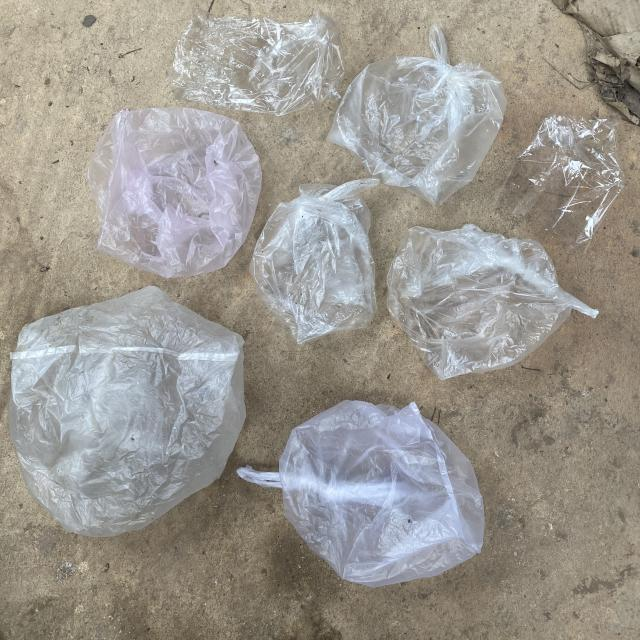Single-layer Plastic: (9, 286, 246, 536), (238, 400, 484, 588), (388, 224, 598, 380), (326, 25, 506, 206), (88, 108, 261, 278), (250, 179, 379, 344), (174, 10, 344, 115), (498, 114, 624, 245)
